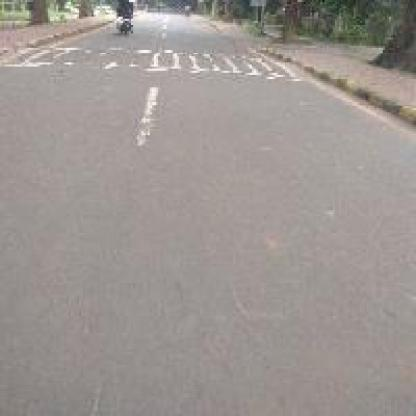Speed Bump: (0, 40, 304, 83)
